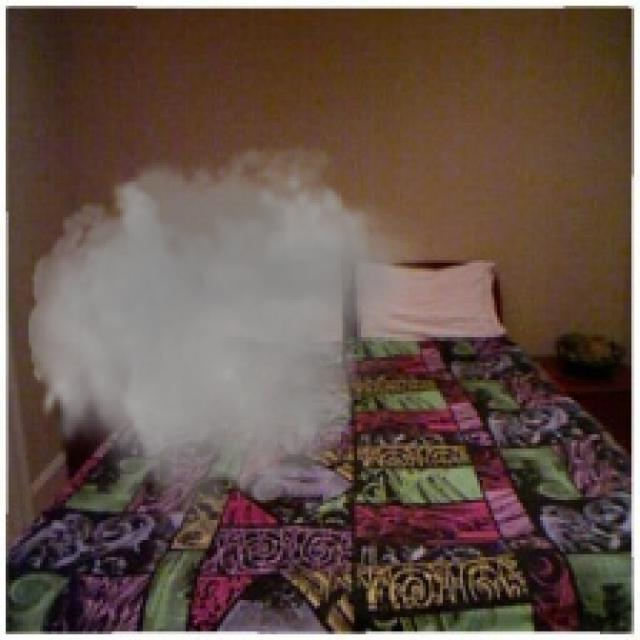Smoke: (17, 128, 437, 548)
